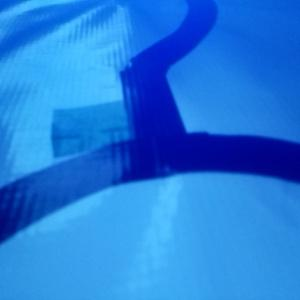top_left: (51, 100, 174, 175)
